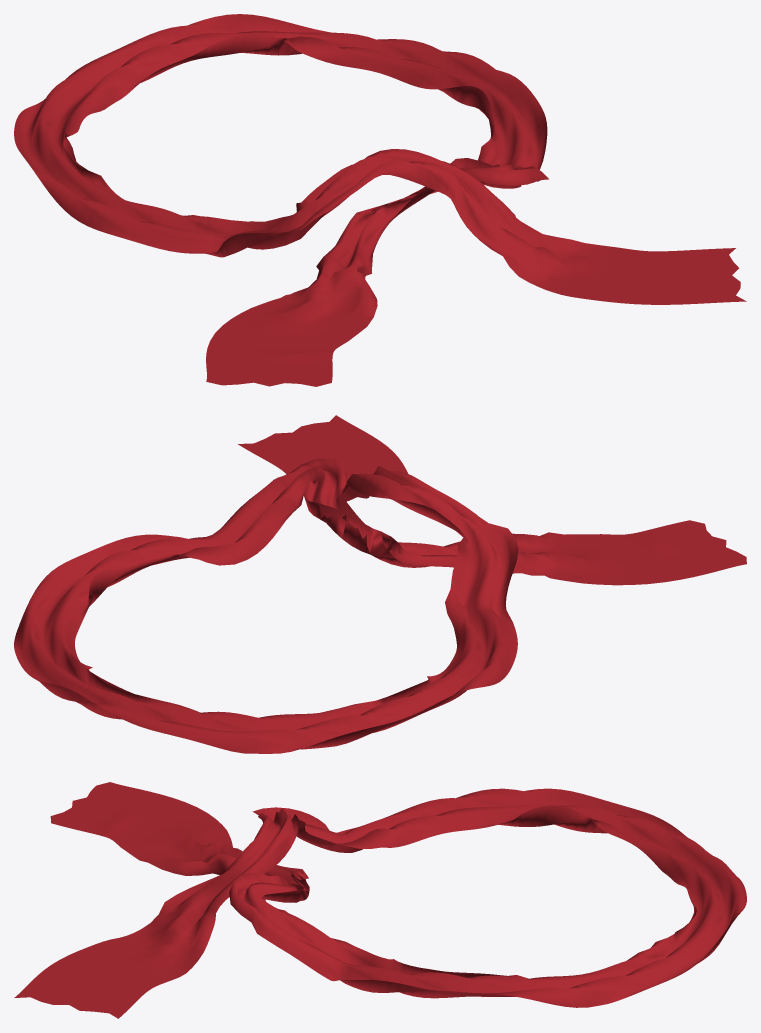
Rendered from pine-visitor-cloth.glb.
The picture shows the model from 3 angles, top to bottom: view 1: azimuth 30°, elevation 25°; view 2: azimuth 150°, elevation 25°; view 3: azimuth 270°, elevation 25°; orthographic projection. The views are drawn at different scales.
Parts seen in each view (by area): view 1: One palm-width length of coarse red cloth; view 2: One palm-width length of coarse red cloth; view 3: One palm-width length of coarse red cloth.
Boxes of the visible parts, x1,y1,x2,y2 form: One palm-width length of coarse red cloth: (14,14,746,386); One palm-width length of coarse red cloth: (14,415,746,753); One palm-width length of coarse red cloth: (14,782,746,1018).
Size of the model in its own units: 0.1522 by 0.0253 by 0.199.
